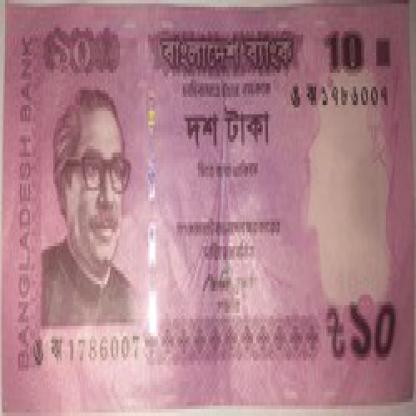Ten Taka: (344, 291, 401, 364), (43, 18, 105, 76), (323, 21, 368, 80)
